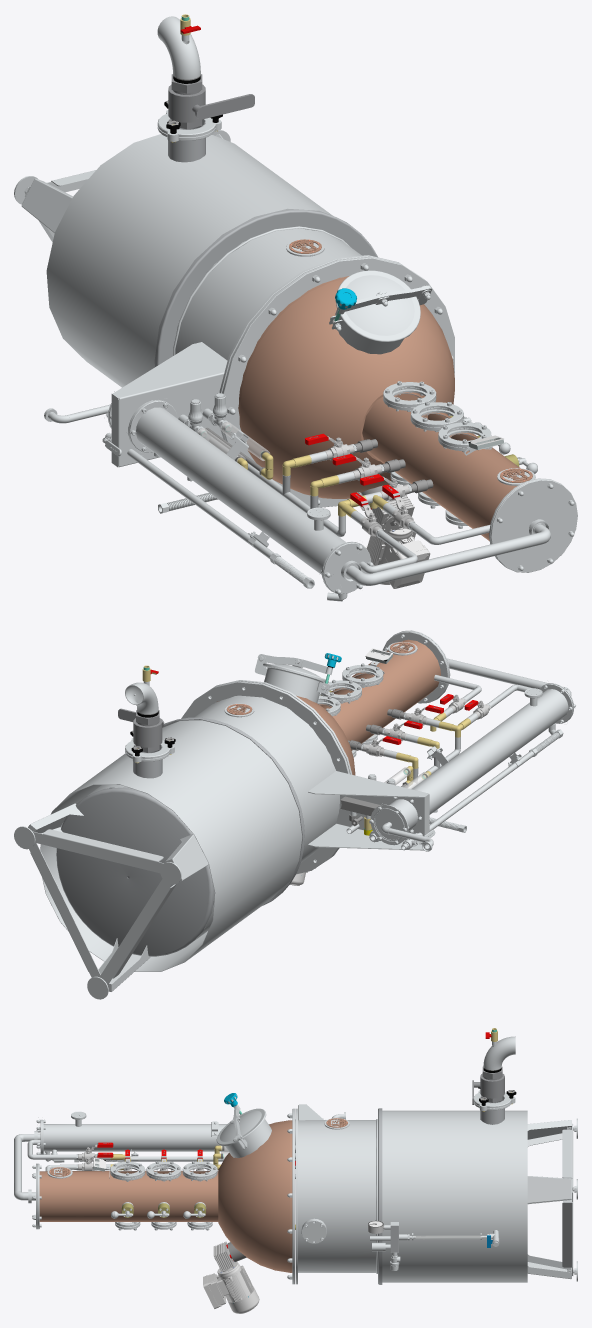
Rendered from Ipari 200L 3D cad látványterv 2026..04.02.glb.
3 views of the same model, one above another, from view 1: azimuth 30°, elevation 25°; view 2: azimuth 150°, elevation 25°; view 3: azimuth 270°, elevation 25° (orthographic). The views are drawn at different scales.
Parts seen in each view (by area): view 1: Üstház palást, Félgömb kupola, külső palást 100 L, 11073 D114,3x2 mm, inox cso, D212 mm Torony, Kupola és üstnyak karima (×2), Hűtőtartó konzol, Üstház váll, D212 defitető lapos inox, 9612944704_P2, 1 col gőzcső, 18026 2,5 col golyós CSAP, B_B menetes, VA30 (+10 smaller); view 2: Üstház palást, Proba Sekély domb. fenék külső palásthoz, külső palást 100 L, Láb átkötő (×3), 11073 D114,3x2 mm, inox cso, D212 mm Torony, Hűtőtartó konzol, Kupola és üstnyak karima (×2), Hajlított láb (×3), 9612944704_P1, 18026 2,5 col golyós CSAP, B_B menetes, VA30, Üstház váll (+11 smaller); view 3: Üstház palást, külső palást 100 L, Félgömb kupola, D212 mm Torony, 11073 D114,3x2 mm, inox cso, Hajlított láb (×3), 21001 MT Tipo_MN63B_4 14; 230VAC,0.12kW,1370 ford_min, Láb átkötő (×2), Kupola és üstnyak karima (×2), 9612944704_P2, 9612944704_P1, 18026 2,5 col golyós CSAP, B_B menetes, VA30 (+9 smaller).
Part boxes in pixels (<box>): Üstház palást: <box>46,134,332,387</box>; Félgömb kupola: <box>238,276,454,498</box>; külső palást 100 L: <box>173,226,361,360</box>; 11073 D114,3x2 mm, inox cso: <box>136,407,345,574</box>; D212 mm Torony: <box>362,392,520,540</box>; Kupola és üstnyak karima (×2): <box>219,255,454,507</box>; Hűtőtartó konzol: <box>111,342,227,467</box>; Üstház váll: <box>154,208,377,366</box>; D212 defitető lapos inox: <box>490,479,577,572</box>; 9612944704_P2: <box>335,270,420,342</box>; 1 col gőzcső: <box>346,524,550,585</box>; 18026 2,5 col golyós CSAP, B_B menetes, VA30: <box>168,74,254,129</box>; Üstház palást: <box>40,720,302,971</box>; Proba Sekély domb. fenék külső palásthoz: <box>56,787,214,956</box>; külső palást 100 L: <box>87,695,339,942</box>; Láb átkötő (×3): <box>29,829,176,985</box>; 11073 D114,3x2 mm, inox cso: <box>411,689,568,814</box>; D212 mm Torony: <box>319,639,440,750</box>; Hűtőtartó konzol: <box>308,771,429,850</box>; Kupola és üstnyak karima (×2): <box>181,680,352,874</box>; Hajlított láb (×3): <box>28,803,208,991</box>; 9612944704_P1: <box>255,655,329,702</box>; 18026 2,5 col golyós CSAP, B_B menetes, VA30: <box>118,708,164,752</box>; Üstház váll: <box>162,717,304,905</box>; Üstház palást: <box>382,1110,527,1282</box>; külső palást 100 L: <box>298,1119,377,1273</box>; Félgömb kupola: <box>218,1120,292,1272</box>; D212 mm Torony: <box>39,1171,218,1221</box>; 11073 D114,3x2 mm, inox cso: <box>43,1124,269,1151</box>; Hajlított láb (×3): <box>527,1120,571,1279</box>; 21001 MT Tipo_MN63B_4 14; 230VAC,0.12kW,1370 ford_min: <box>203,1261,259,1313</box>; Láb átkötő (×2): <box>562,1123,572,1275</box>; Kupola és üstnyak karima (×2): <box>292,1108,297,1284</box>; 9612944704_P2: <box>216,1108,266,1145</box>; 9612944704_P1: <box>225,1119,271,1157</box>; 18026 2,5 col golyós CSAP, B_B menetes, VA30: <box>472,1066,504,1104</box>.
Size of the model in its own units: 1.27 by 1.28 by 2.34.
